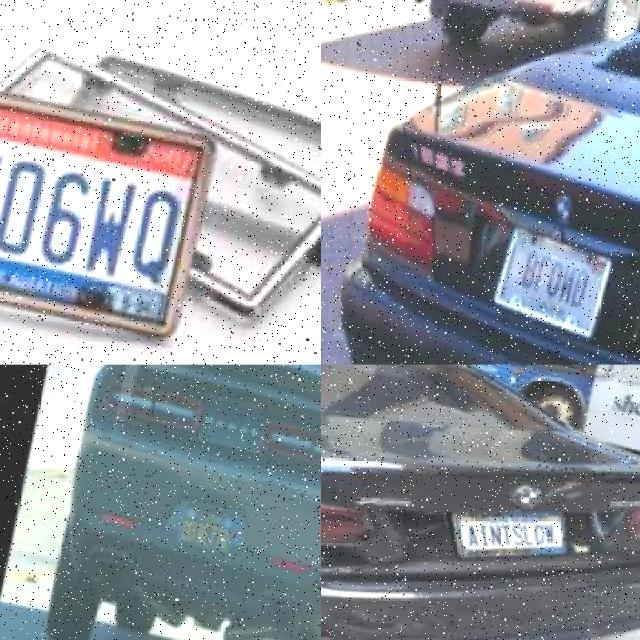licenseplate: (0, 84, 195, 292), (493, 221, 610, 328), (450, 513, 570, 560), (174, 494, 235, 560), (454, 0, 509, 22)
